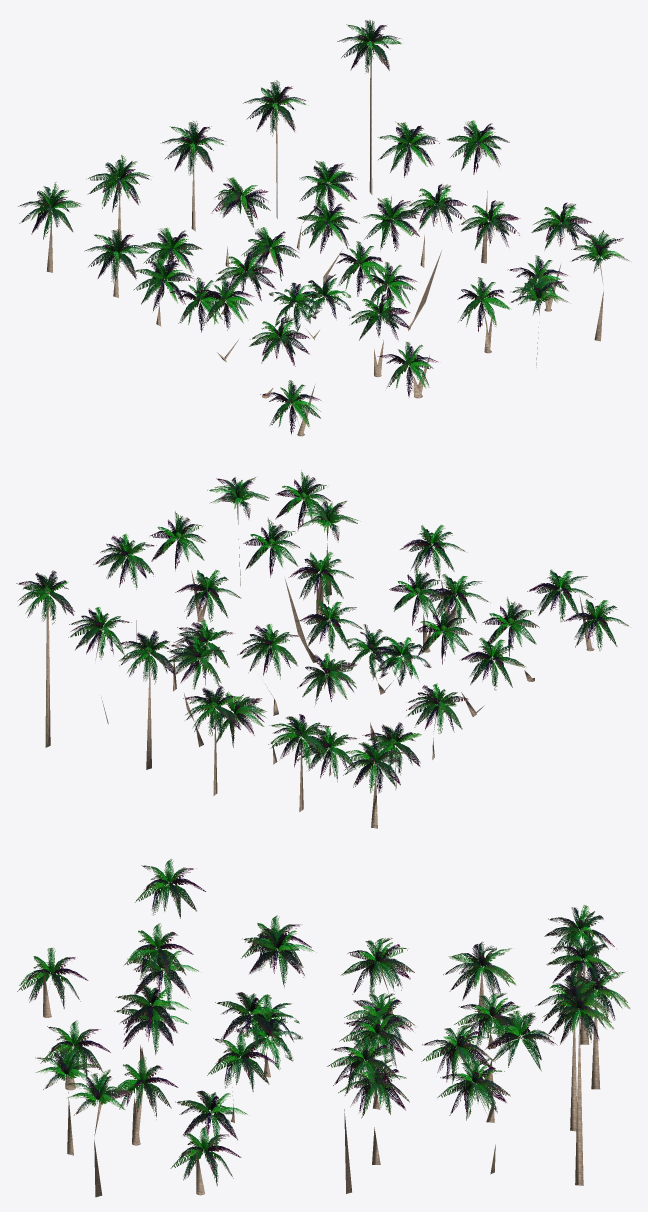
File: palm_ns2_lo.glb
3 renders of one model, top to bottom at view 1: azimuth 30°, elevation 25°; view 2: azimuth 150°, elevation 25°; view 3: azimuth 270°, elevation 25°, orthographic. The views are drawn at different scales.
Parts seen in each view (by area): view 1: M_Palm_P2_31; view 2: M_Palm_P2_31; view 3: M_Palm_P2_31.
Part boxes in pixels (x1,y1,x2,y2): M_Palm_P2_31: [18, 20, 629, 436]; M_Palm_P2_31: [16, 470, 628, 828]; M_Palm_P2_31: [17, 859, 630, 1197].
Bounding box in the file's own units: 10968 × 4342 × 12251.
Materials: 3 (2 with a texture image).
